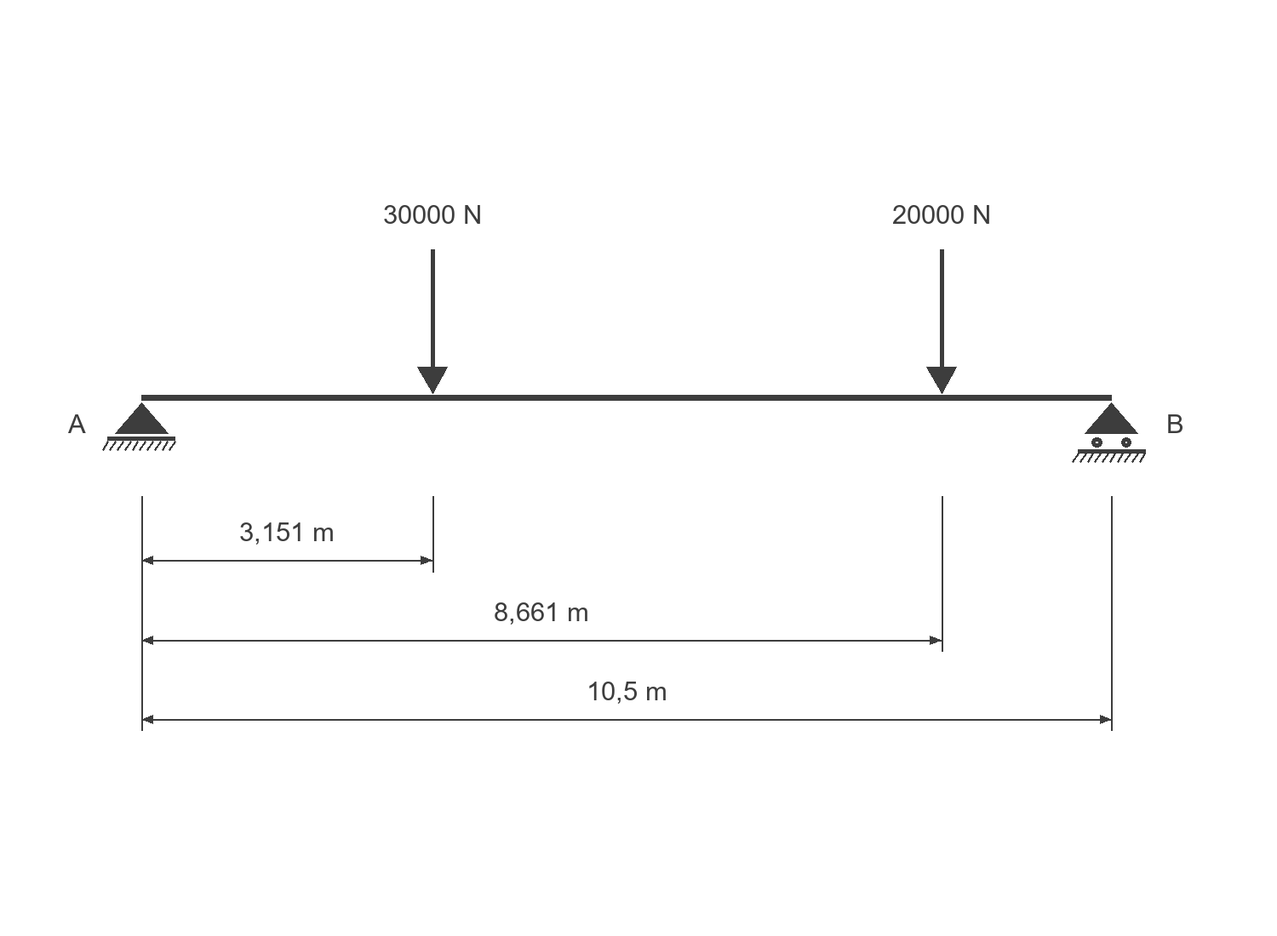pin_support: (102, 402, 176, 451)
point_load: (417, 249, 448, 394), (926, 249, 957, 394)
roller_support: (1072, 402, 1146, 463)
